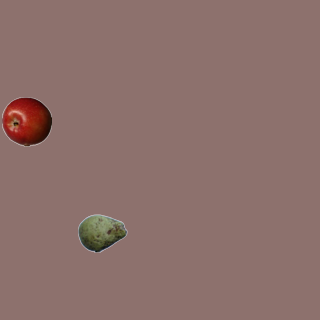Apple Braeburn: (1, 96, 51, 146)
Pear Stone: (77, 208, 127, 258)
